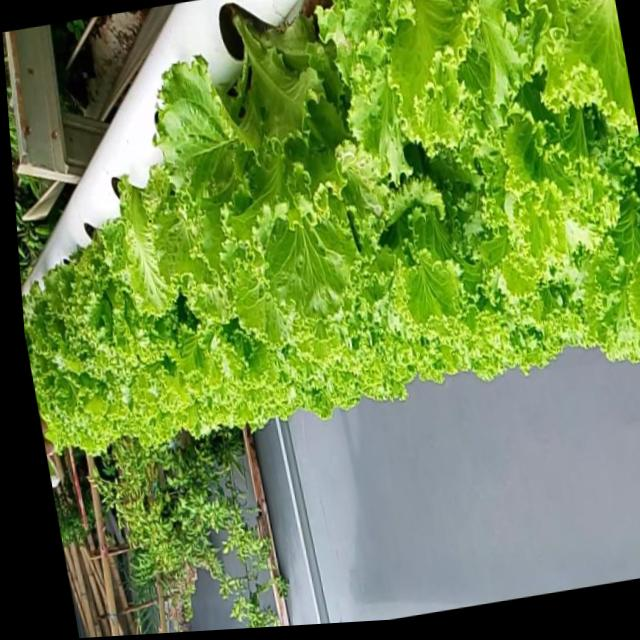Mature: (22, 0, 640, 451), (167, 0, 385, 327), (56, 203, 172, 369)
